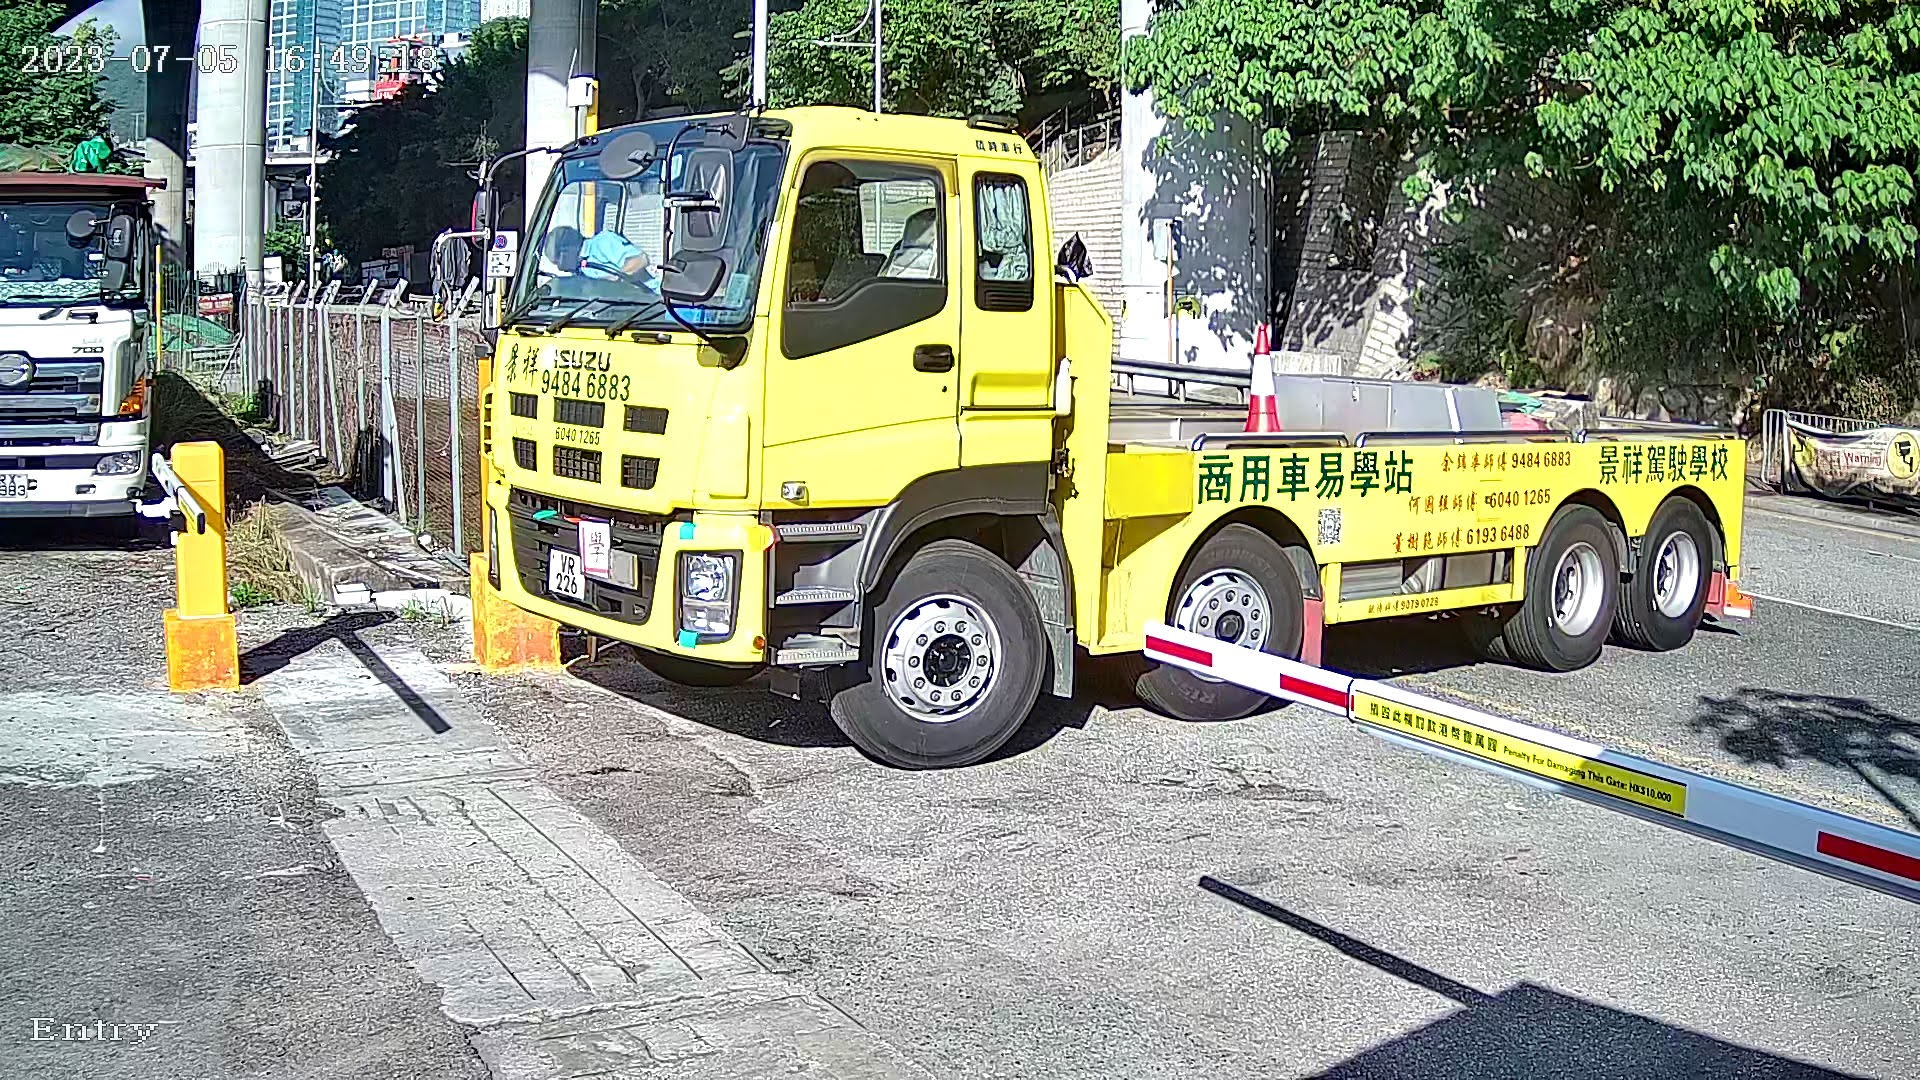truck_small: (407, 55, 1779, 789)
